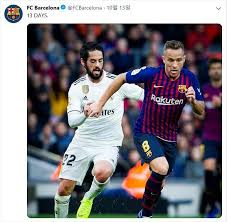barcelona: (96, 42, 203, 221), (193, 59, 222, 216)
realmadrid: (49, 37, 136, 218)
